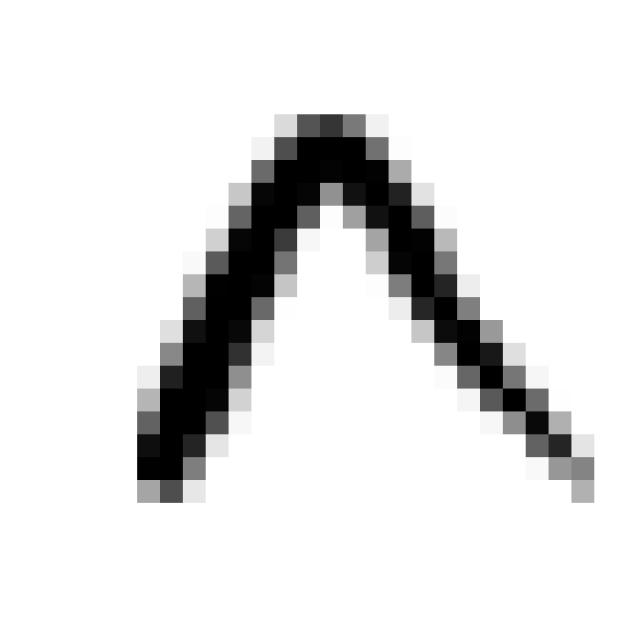8 -eight-: (112, 91, 616, 523)
